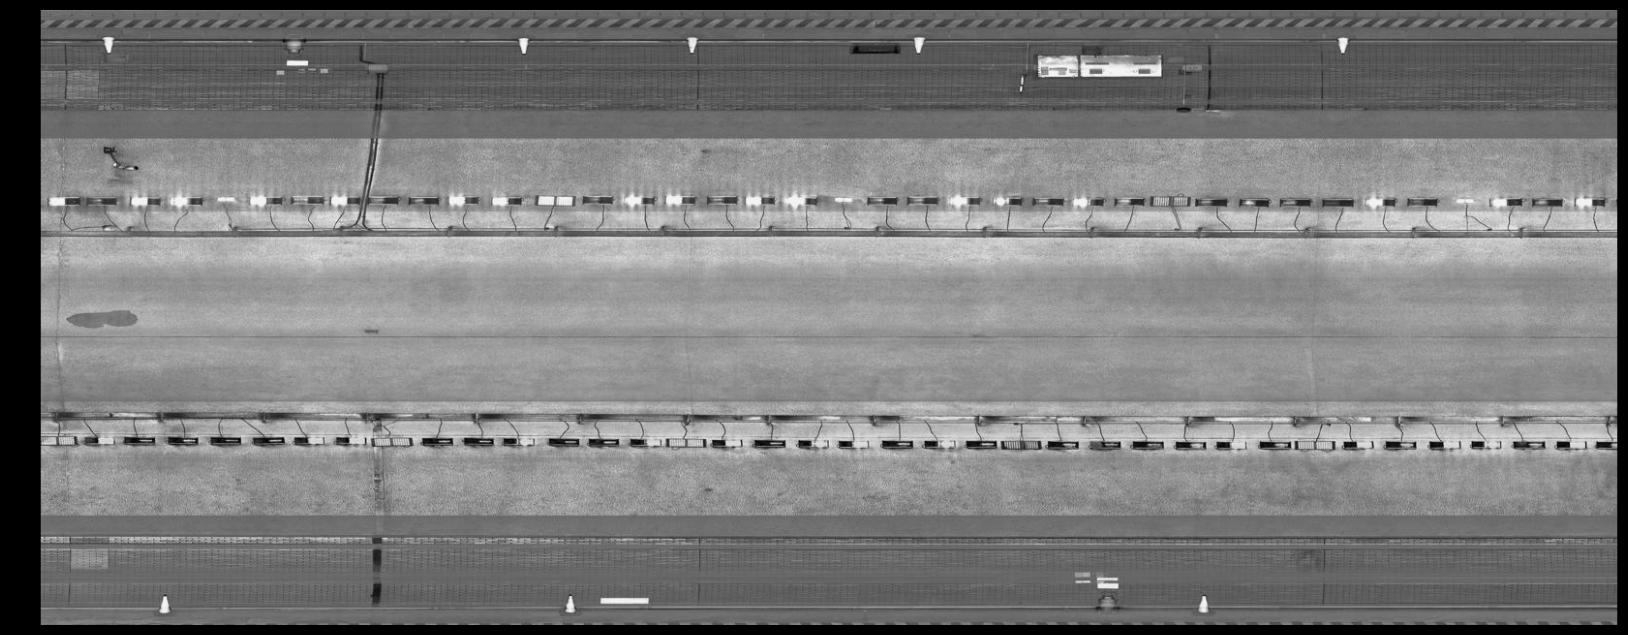light: (368, 432, 416, 449), (532, 191, 579, 209), (1291, 436, 1337, 452), (996, 436, 1044, 451), (1148, 192, 1193, 209), (782, 190, 821, 209), (40, 431, 80, 449), (663, 435, 708, 450), (443, 191, 482, 209), (485, 191, 523, 209), (621, 190, 659, 208), (1338, 436, 1379, 452), (326, 190, 365, 206), (1086, 437, 1124, 453), (1211, 436, 1249, 452), (1509, 437, 1549, 452), (703, 191, 740, 208), (1129, 436, 1166, 452), (1485, 193, 1527, 208), (750, 435, 789, 450), (1424, 436, 1464, 451), (1553, 437, 1593, 452), (1571, 193, 1607, 210), (78, 432, 119, 446), (166, 193, 205, 209), (708, 434, 747, 449), (286, 191, 326, 205), (1191, 194, 1231, 209), (1233, 194, 1274, 209), (919, 436, 959, 450), (580, 191, 616, 208), (740, 192, 778, 208), (794, 435, 832, 450), (1318, 194, 1357, 209), (1402, 194, 1441, 209), (418, 434, 458, 448), (459, 434, 498, 448), (499, 434, 539, 448), (1256, 437, 1293, 452), (1382, 437, 1418, 452), (205, 433, 246, 446), (247, 192, 286, 206), (1277, 194, 1315, 209), (1360, 194, 1399, 209), (545, 434, 584, 448), (1172, 437, 1208, 452), (863, 193, 900, 208), (1110, 193, 1147, 208), (249, 433, 287, 447), (291, 433, 328, 447), (1467, 437, 1504, 451), (663, 192, 698, 208), (44, 194, 83, 208), (81, 194, 120, 208), (125, 194, 164, 208), (833, 437, 872, 450), (904, 193, 941, 208), (947, 193, 983, 208), (404, 193, 442, 206), (119, 433, 158, 446), (878, 437, 917, 450), (1070, 194, 1106, 209), (1030, 194, 1067, 208), (164, 433, 201, 446), (585, 435, 622, 448), (627, 435, 664, 448), (962, 437, 1000, 450), (1043, 438, 1084, 450), (989, 193, 1024, 208), (332, 433, 369, 446), (1530, 195, 1566, 209), (365, 194, 403, 206), (1594, 436, 1617, 449), (1451, 195, 1478, 205), (831, 195, 856, 203), (212, 193, 238, 200)
